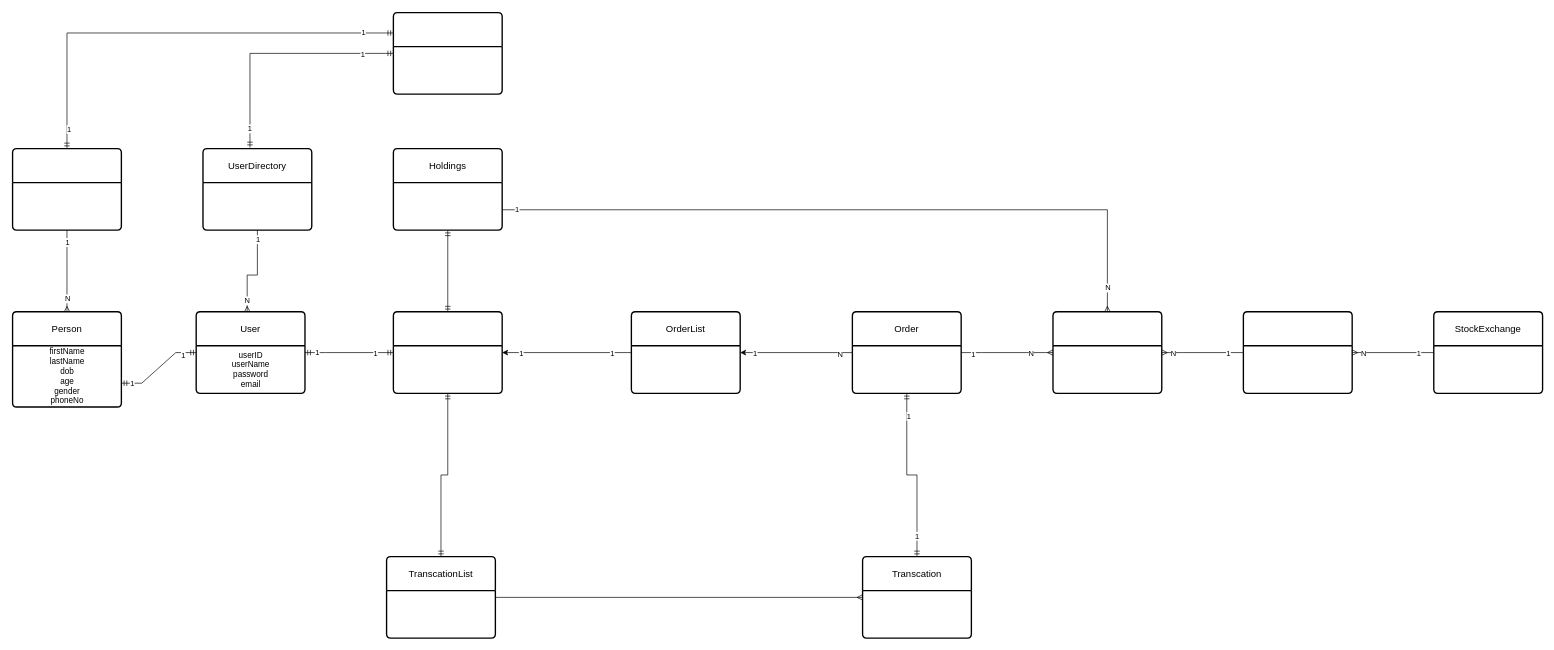
Image size: 1554x650. Some labels were removed from this diagram. Each missing label, with the centre of its shape:
PersonDirectory: (67,189)
Portfolio: (447,352)
Share: (1107,352)
Stock: (1297,352)
Stonks Platform: (447,53)
